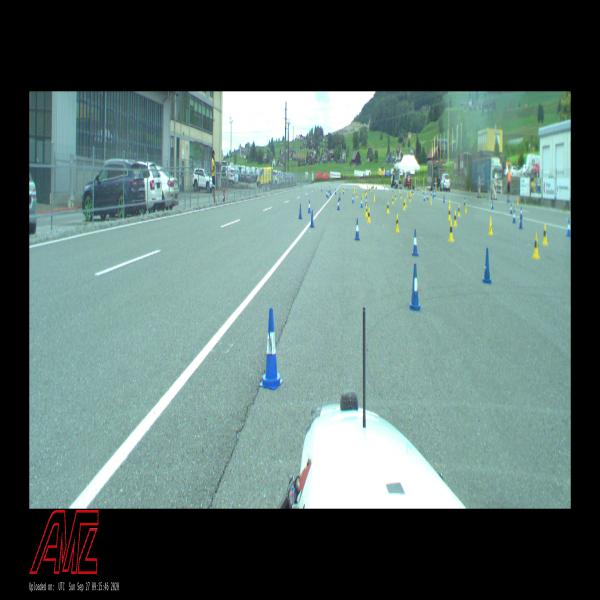blue_cone: (259, 308, 283, 390), (408, 263, 422, 312), (482, 248, 492, 284), (412, 229, 418, 257), (354, 218, 360, 241), (566, 218, 571, 237), (310, 209, 314, 228), (298, 203, 302, 220), (512, 209, 516, 224), (519, 206, 523, 219), (519, 214, 522, 229), (337, 198, 340, 212), (308, 200, 311, 213), (360, 197, 363, 208), (510, 203, 513, 214), (491, 199, 494, 210), (365, 196, 368, 206), (352, 193, 354, 204), (339, 192, 341, 201), (327, 190, 329, 199), (424, 194, 426, 202), (326, 189, 327, 197), (335, 188, 336, 195)
yellow_cone: (532, 233, 540, 259), (542, 224, 548, 246), (448, 220, 454, 242), (394, 213, 399, 233), (488, 217, 493, 236), (367, 207, 371, 224), (453, 210, 457, 227), (448, 205, 451, 221), (386, 201, 389, 214), (364, 204, 367, 217), (403, 199, 406, 211), (391, 195, 394, 204), (355, 190, 358, 199), (458, 204, 460, 217), (465, 202, 467, 213), (409, 194, 411, 202), (400, 192, 402, 199), (341, 186, 343, 192), (374, 194, 375, 202), (365, 188, 366, 196), (395, 193, 396, 200), (366, 188, 367, 194), (343, 186, 344, 190)
